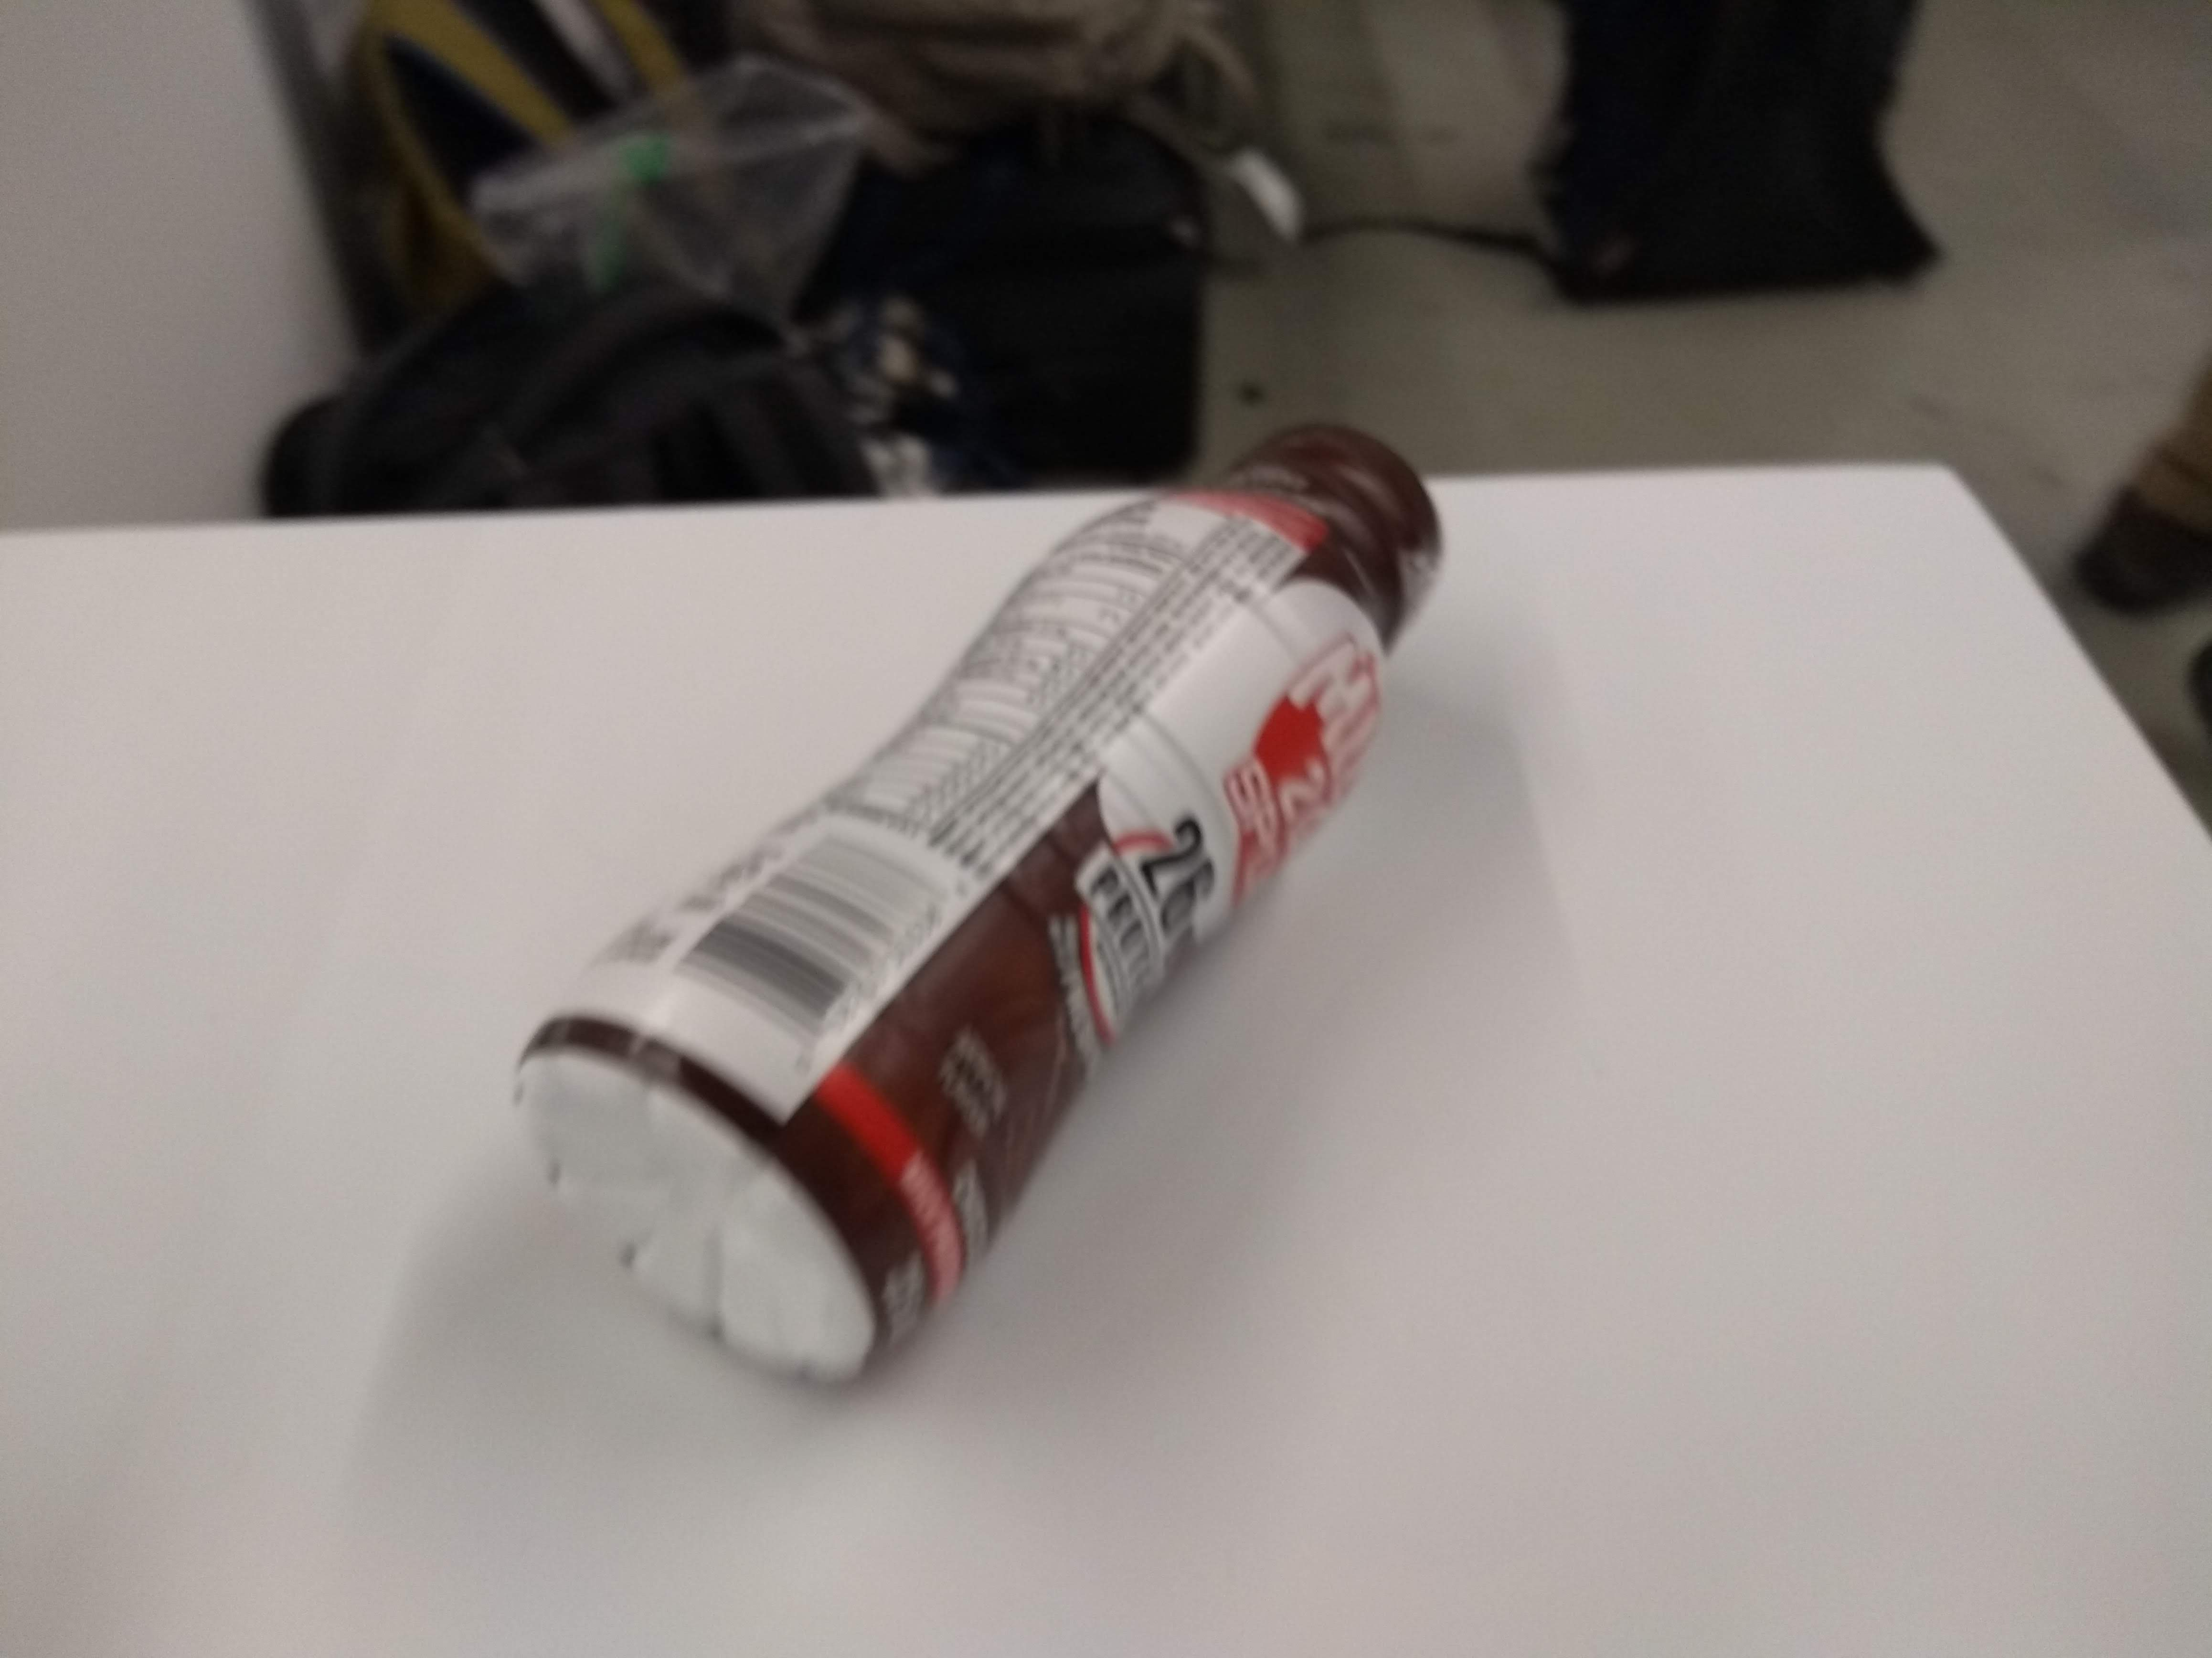chocolate_drink: (496, 406, 1453, 1414)
